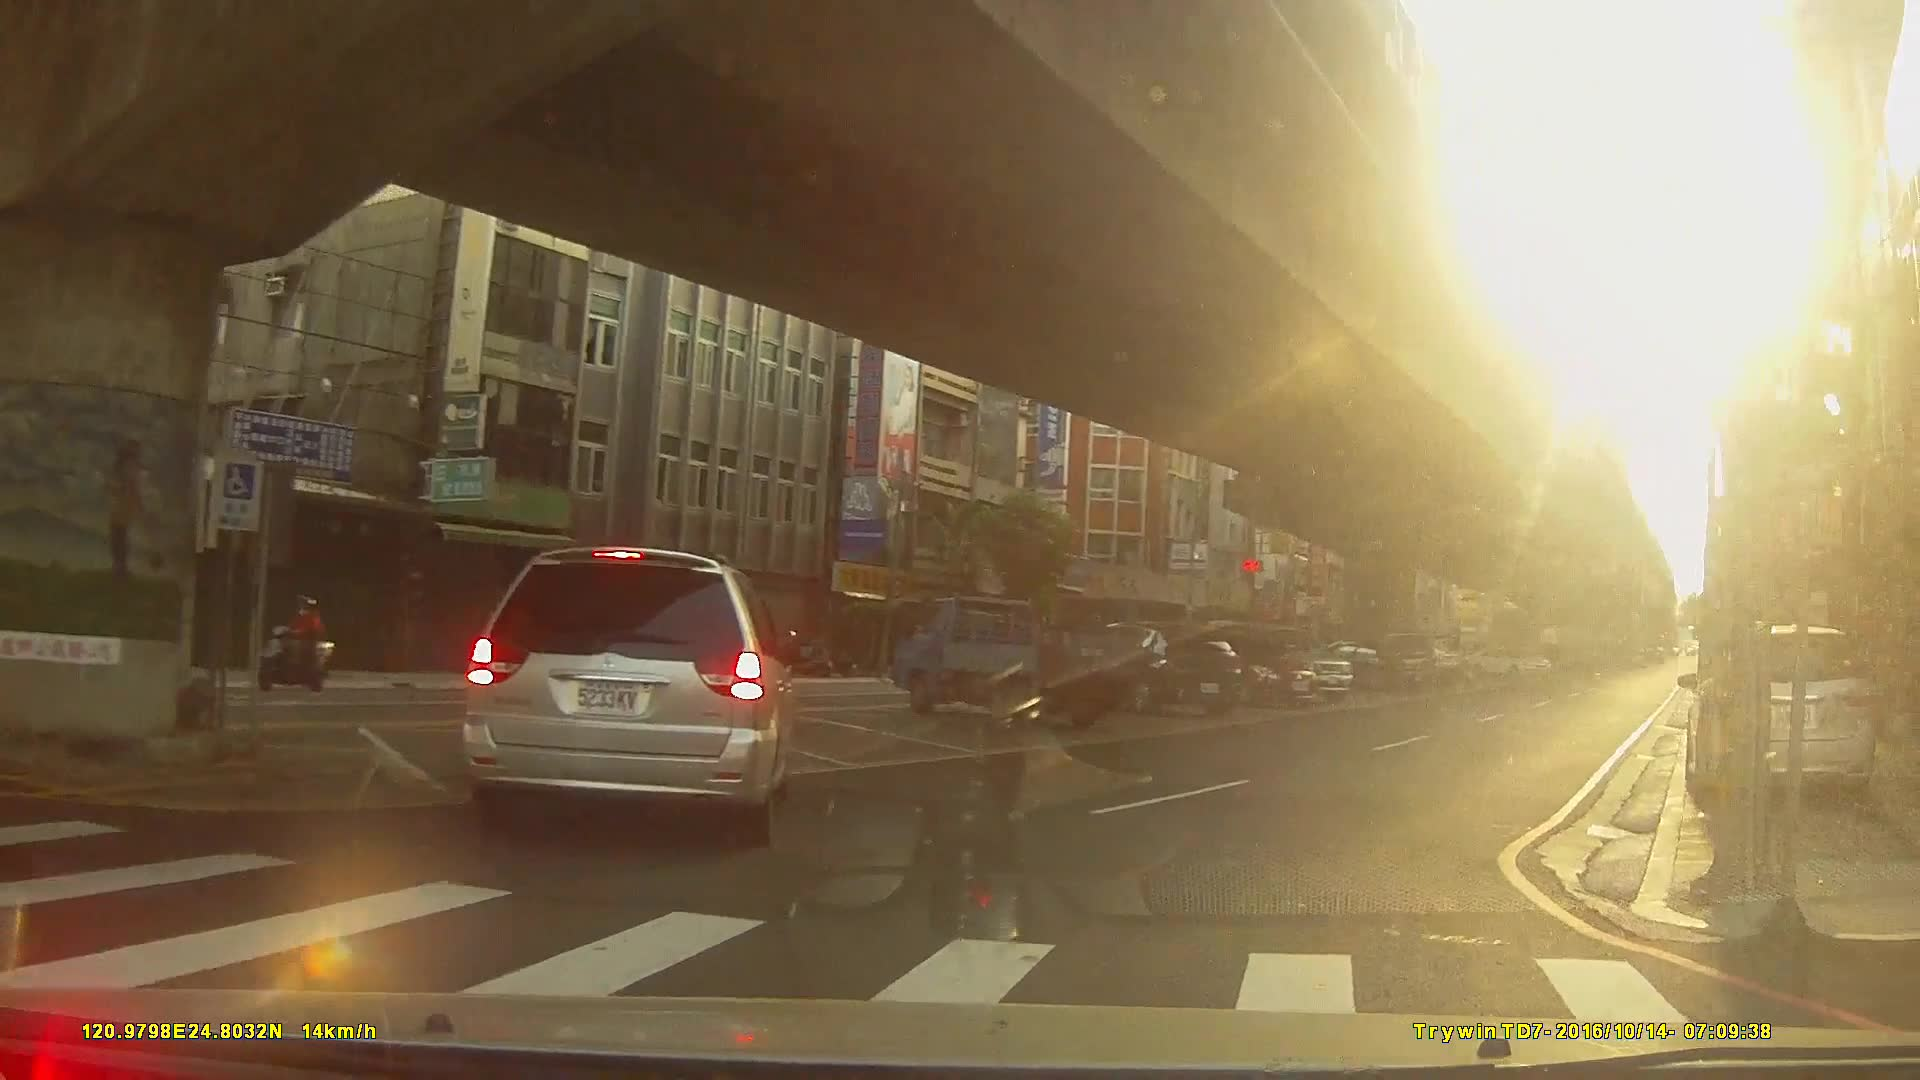rider: (251, 596, 335, 690)
vehicle: (462, 543, 797, 845), (1684, 621, 1875, 810), (890, 592, 1119, 722), (1066, 619, 1241, 718), (1155, 627, 1320, 708), (1296, 636, 1407, 689)
